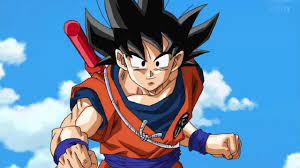Songoku: (112, 18, 192, 94)
